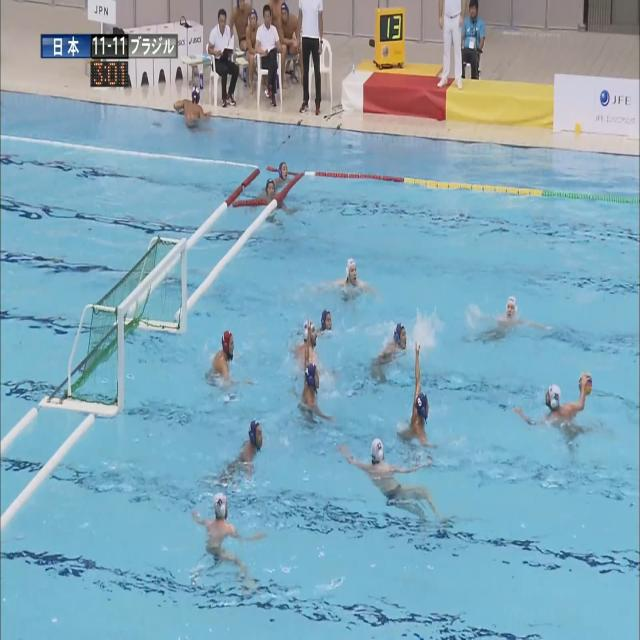ball: (578, 373, 592, 395)
